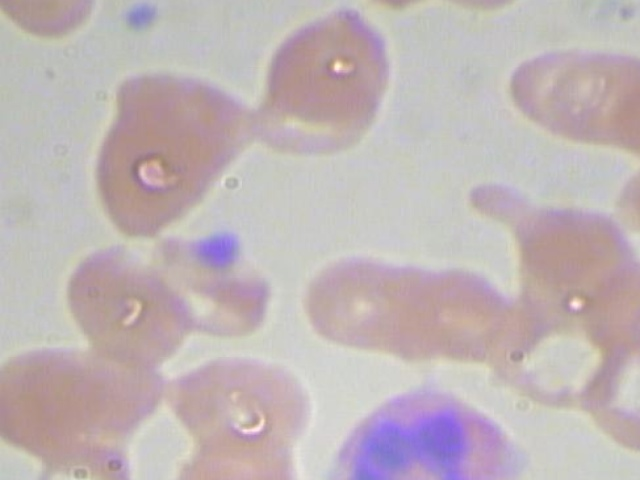Platelets: (192, 224, 252, 266), (108, 0, 165, 35)
RBC: (72, 59, 263, 241), (483, 295, 635, 415), (257, 3, 403, 126), (165, 340, 312, 461), (296, 242, 442, 363), (58, 243, 204, 364), (0, 338, 117, 459), (573, 328, 640, 459), (585, 246, 640, 365)
WBC: (310, 383, 537, 480)
